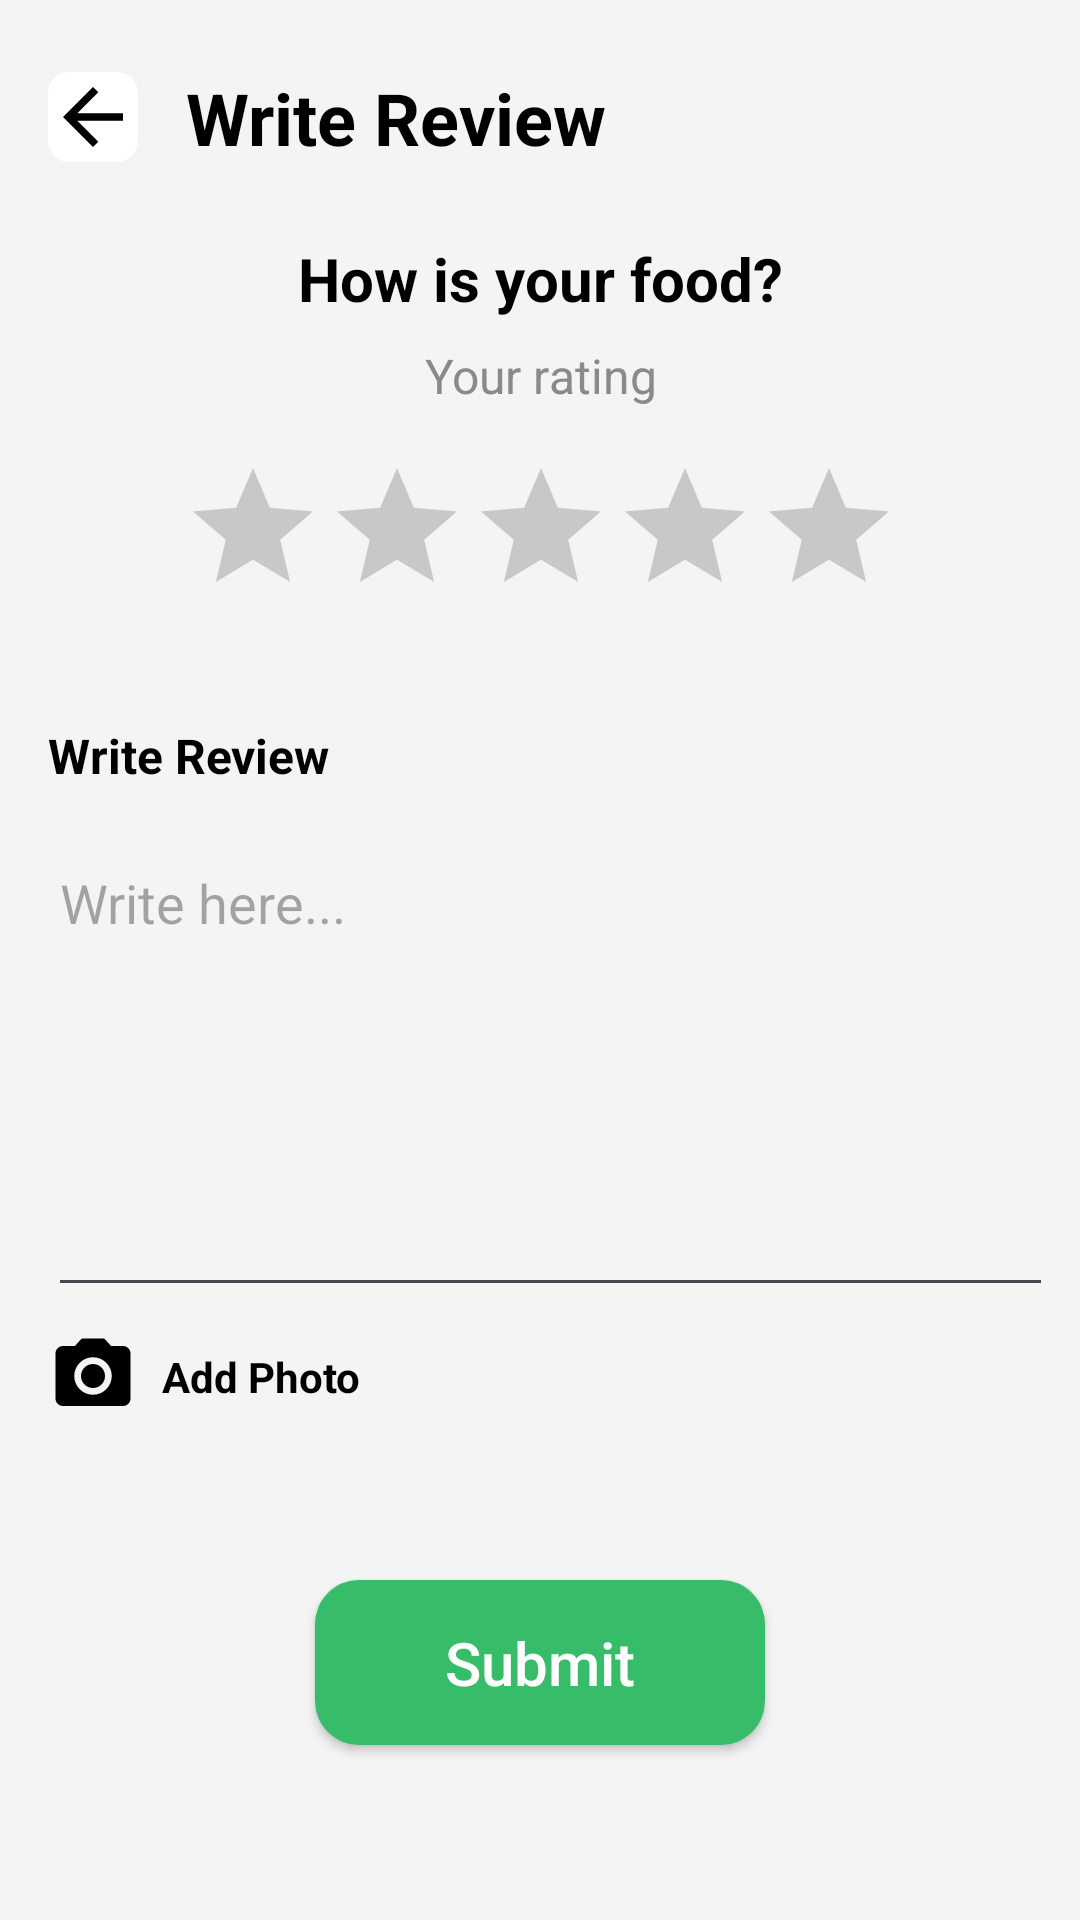

Locate icon controls on the screen. Image size 1080px x 1920px, boxes as (x1, y1, x2, y2).
back: (48, 72, 138, 162)
camera: (55, 1338, 131, 1406)
